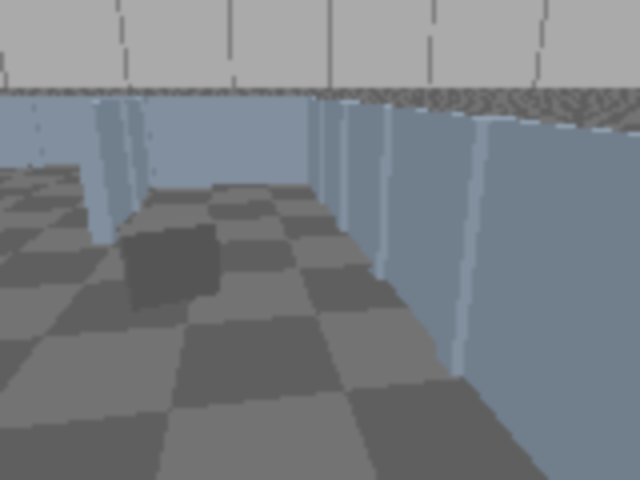obstacle: (117, 214, 222, 312)
